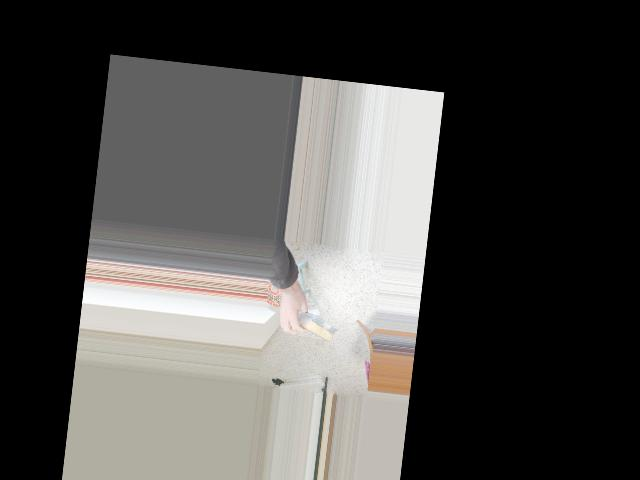cheese: (277, 307, 341, 342)
